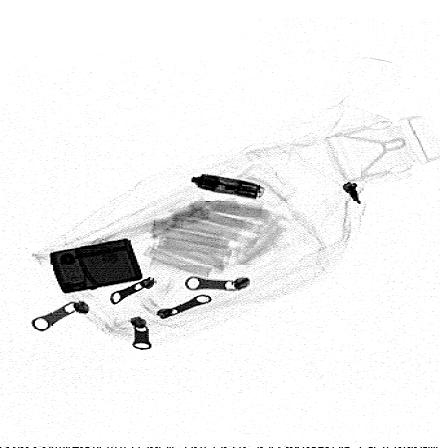Lighter: (48, 238, 145, 295)
